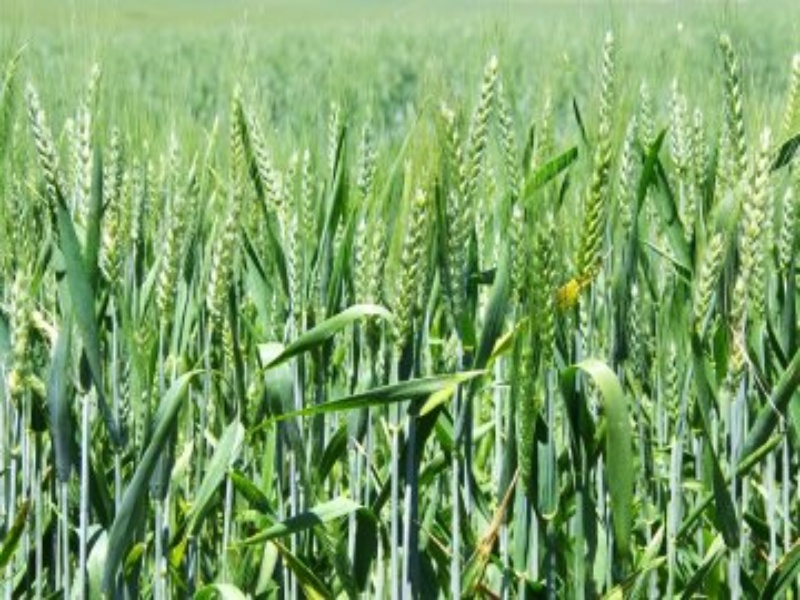wheat: (555, 11, 795, 490), (390, 38, 559, 425), (111, 122, 274, 478), (221, 80, 361, 356), (7, 52, 121, 232), (341, 206, 393, 365), (1, 248, 45, 411)
